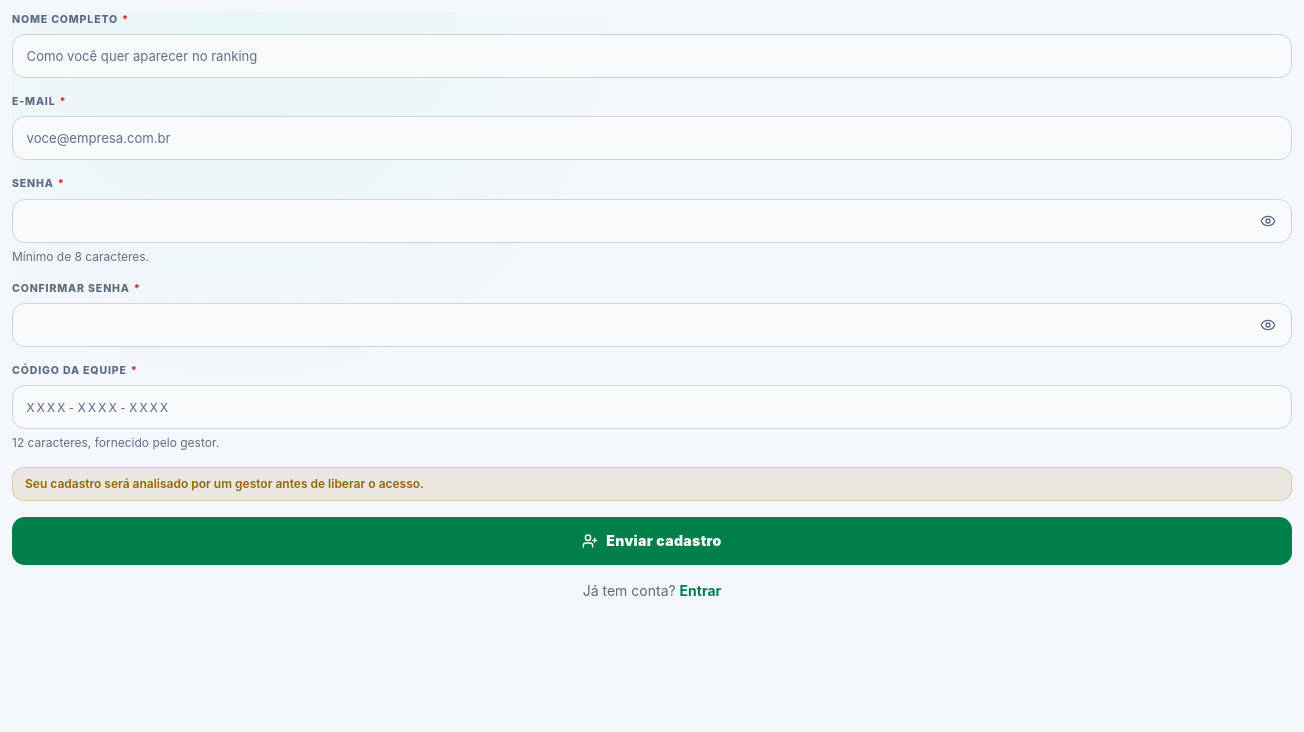
Test: SignupForm › team_code: masks the code, shows the approval notice and puts the API field error on the field
The image size is (1304, 732).
In the field labelled "Nome completo*": point(652, 56) [12,34,1292,78], type "Nome Sobrenome"
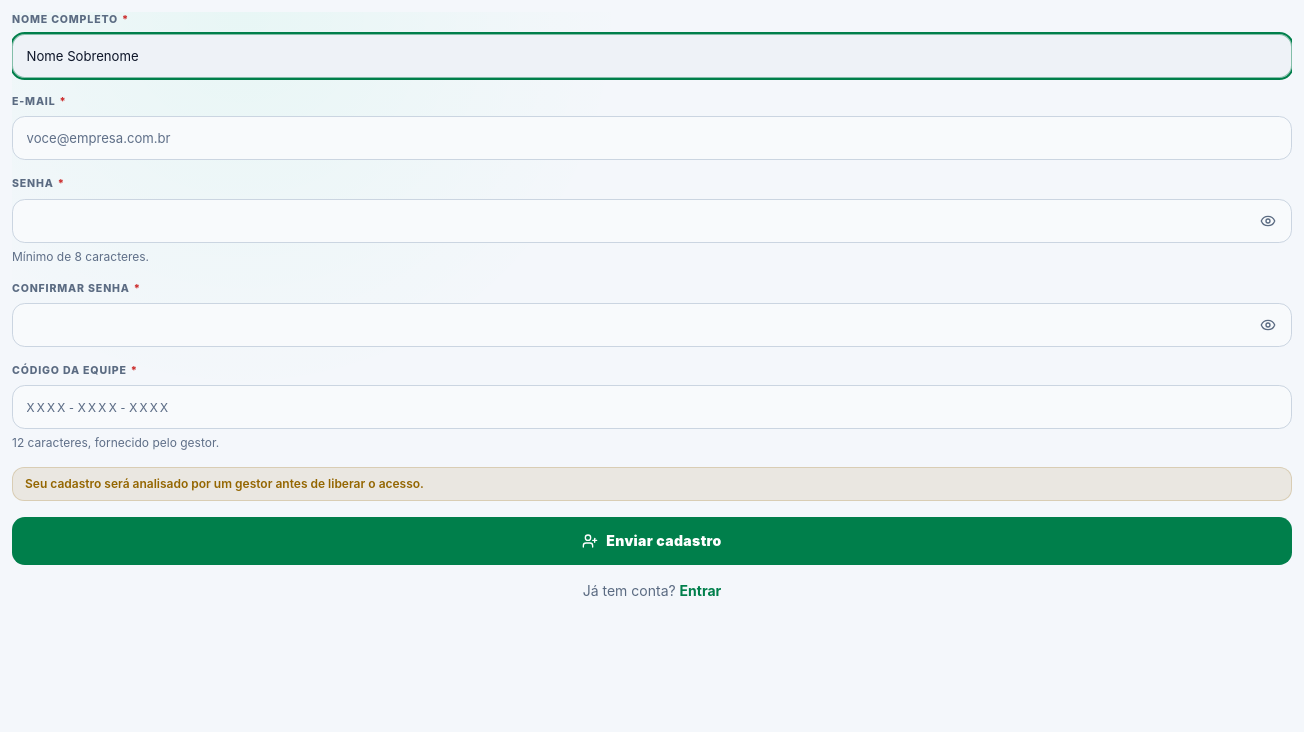
In the field labelled "E-mail*": point(652, 138) [12,116,1292,160], type "a@b.com"
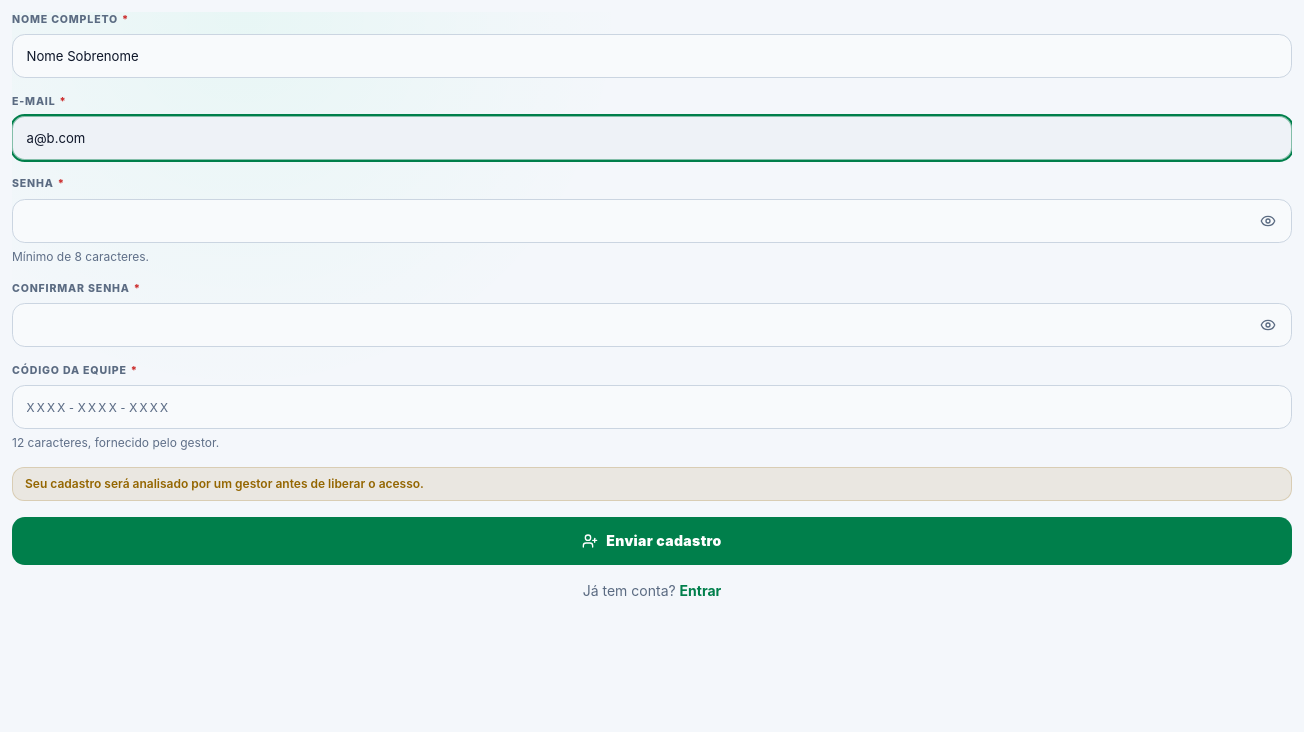
In the password field labelled "Senha*": point(652, 221) [12,199,1292,243], type "senha1234"
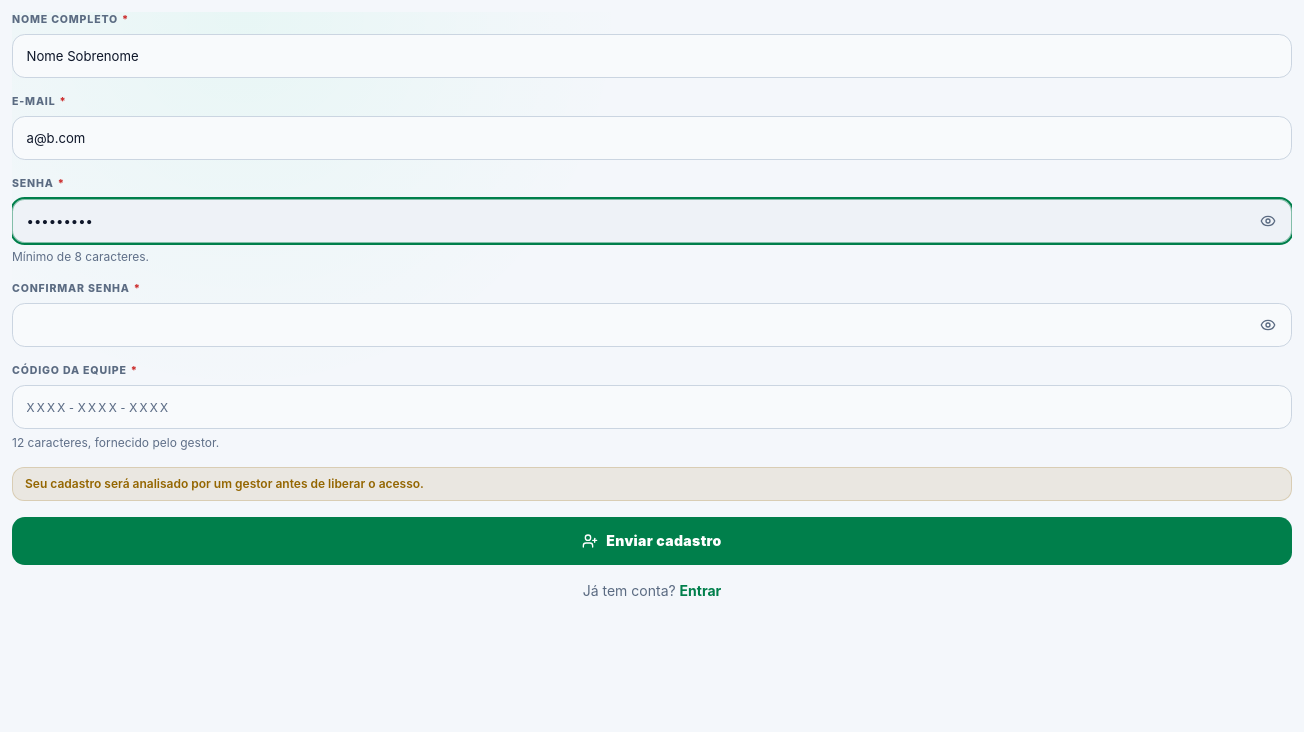
In the password field labelled "Confirmar senha*": point(652, 325) [12,303,1292,347], type "senha1234"
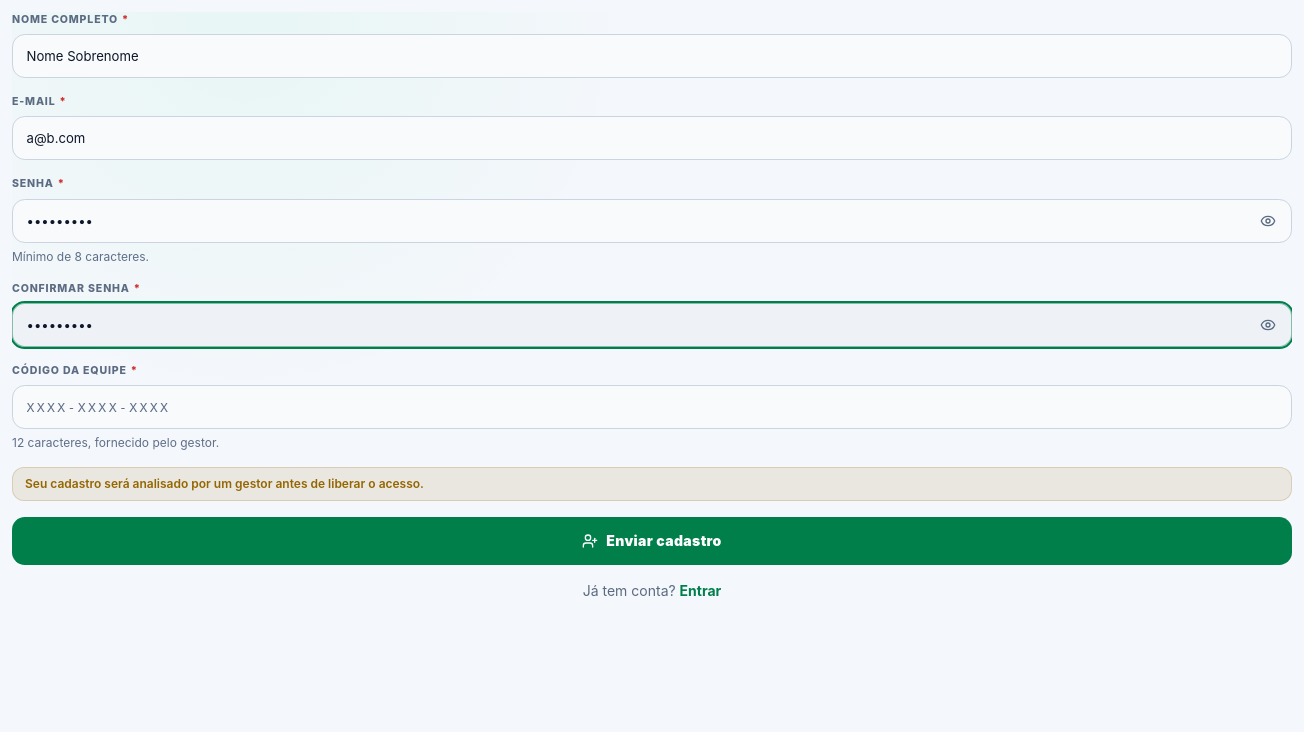
In the field labelled "Código da equipe*": point(652, 407) [12,385,1292,429], type "a3f9c21b7e04"
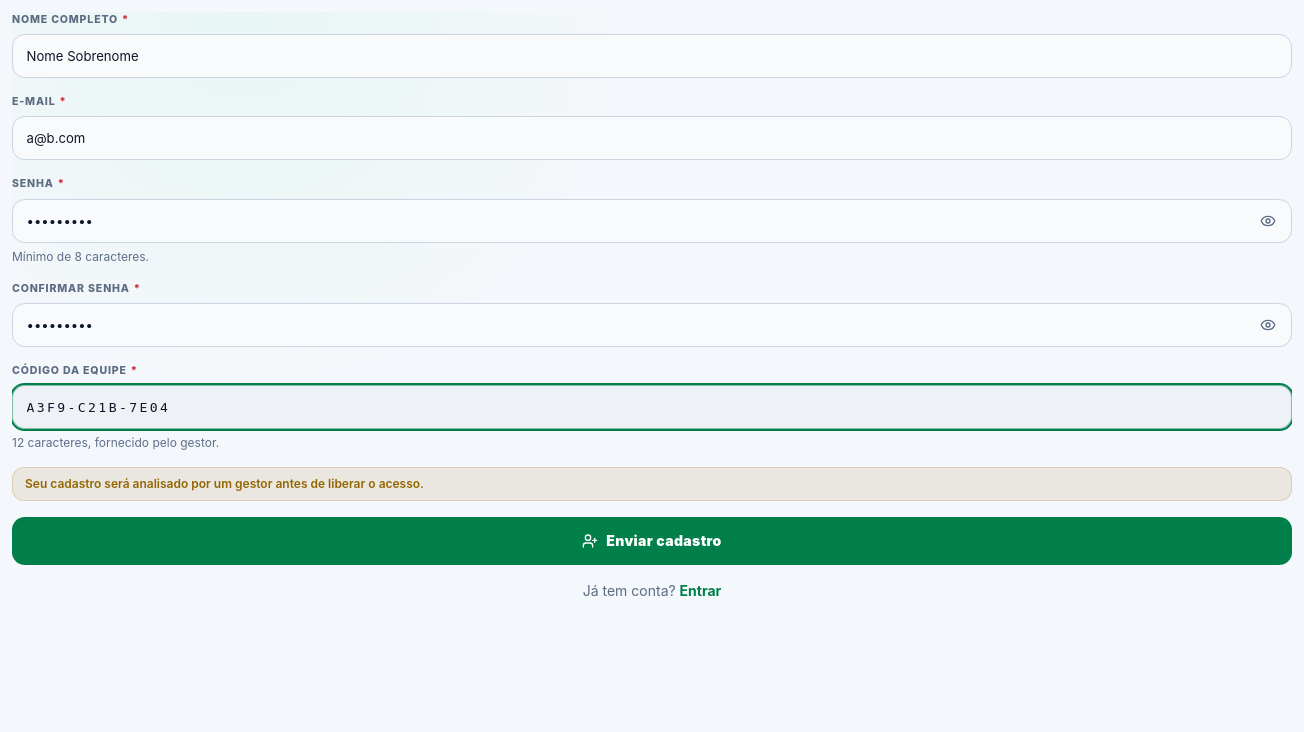
expect the text "Seu cadastro será analisado por um gestor antes de liberar o acesso." is shown: met, box [12,467,1292,501]
expect the field labelled "Código da equipe*" holds "A3F9-C21B-7E04": met, box [12,385,1292,429]
Click the button "Enviar cadastro": point(652, 541) [12,517,1292,565]
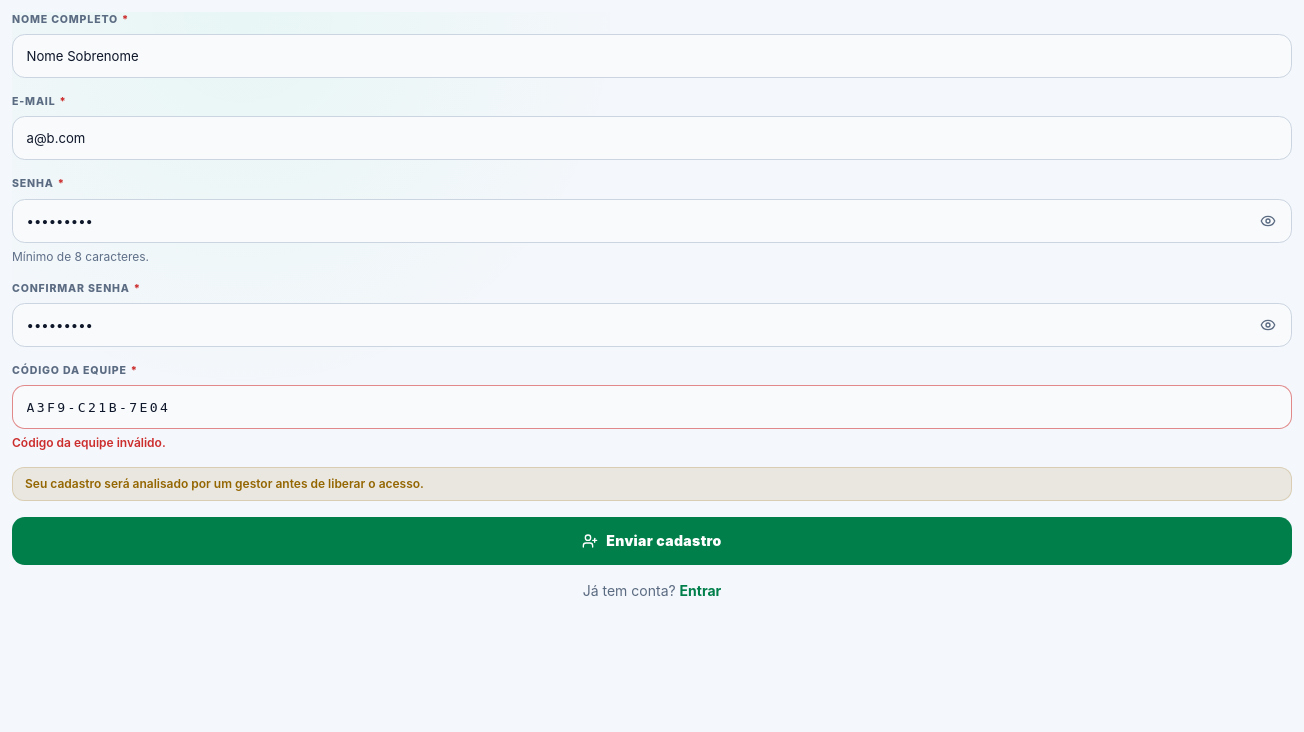
expect the text "Código da equipe inválido." is shown: met, box [12,435,166,450]
